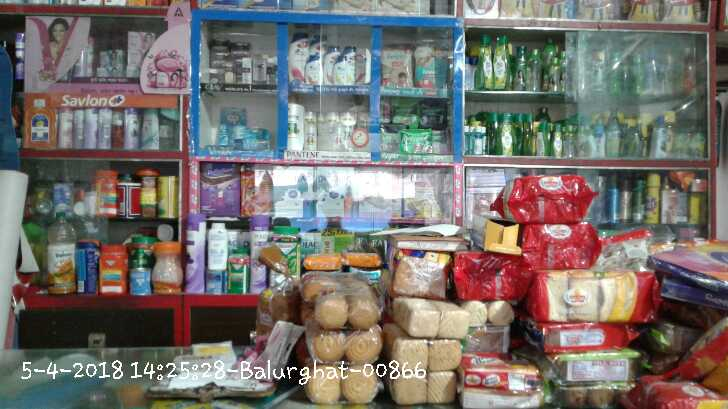venus: (217, 106, 243, 152), (243, 128, 271, 152)
